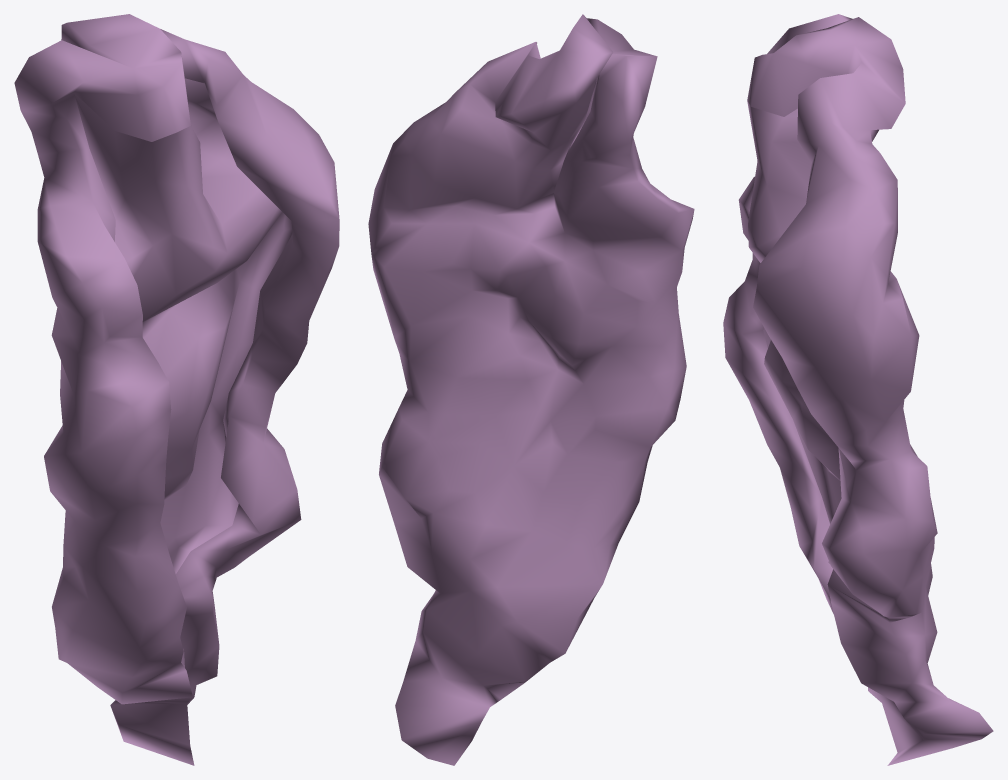
The picture shows the model from 3 angles, left to right: view 1: azimuth 30°, elevation 25°; view 2: azimuth 150°, elevation 25°; view 3: azimuth 270°, elevation 25°; orthographic projection. The views are drawn at different scales.
Visible parts, largest first — view 1: 左侧枕颞外侧回; view 2: 左侧枕颞外侧回; view 3: 左侧枕颞外侧回.
Part boxes in pixels (box(x1,y1,x2,y2)): 左侧枕颞外侧回: box(14, 14, 339, 765); 左侧枕颞外侧回: box(368, 14, 694, 765); 左侧枕颞外侧回: box(723, 14, 993, 765).
Bounding box in the file's own units: 0.038 × 0.0918 × 0.0324.
